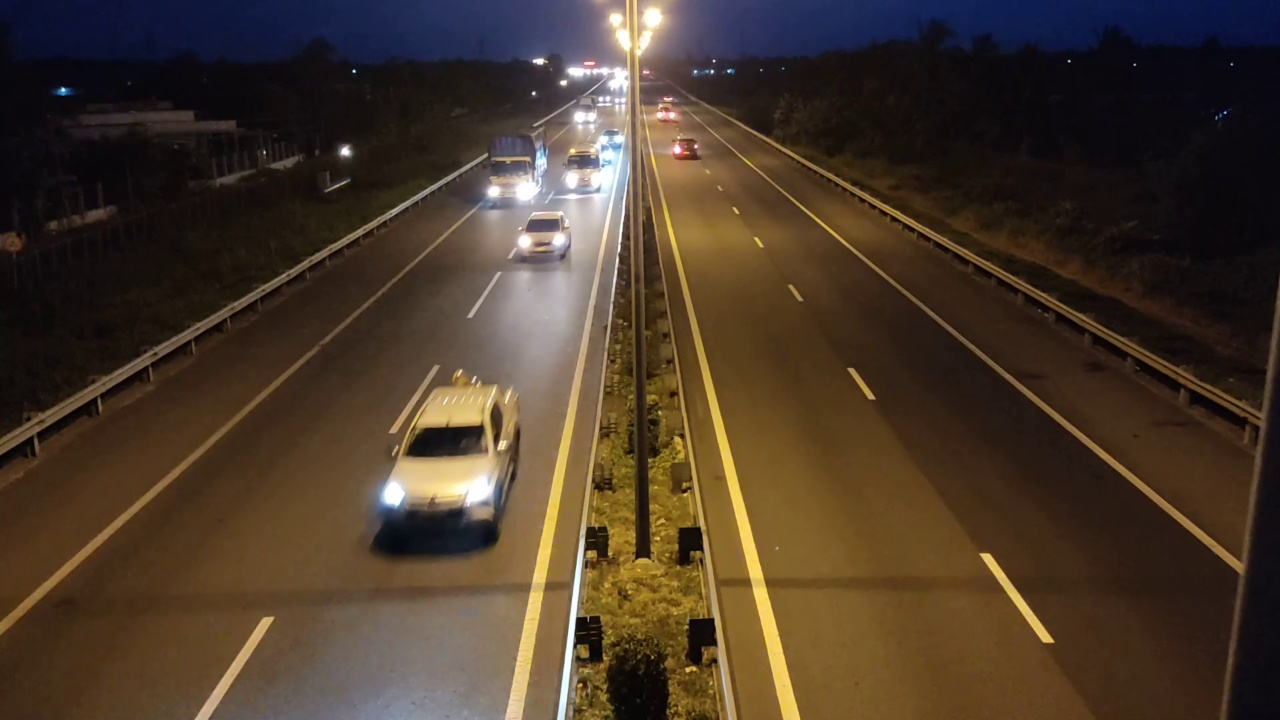car: (372, 372, 522, 551), (509, 211, 573, 263), (669, 136, 701, 160)
